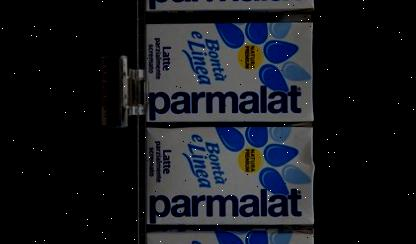Others: (141, 21, 316, 125), (141, 128, 315, 228)
